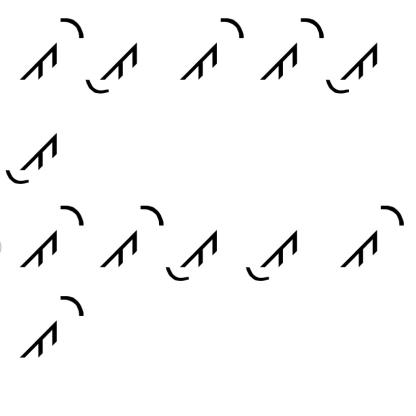kaw: (240, 218, 302, 292), (3, 124, 66, 189), (166, 214, 221, 287), (327, 29, 385, 98), (85, 32, 143, 100)
kay: (338, 191, 407, 274), (181, 6, 247, 90), (19, 287, 85, 365), (96, 201, 164, 276), (17, 10, 83, 87), (260, 13, 325, 89), (14, 202, 84, 272)
